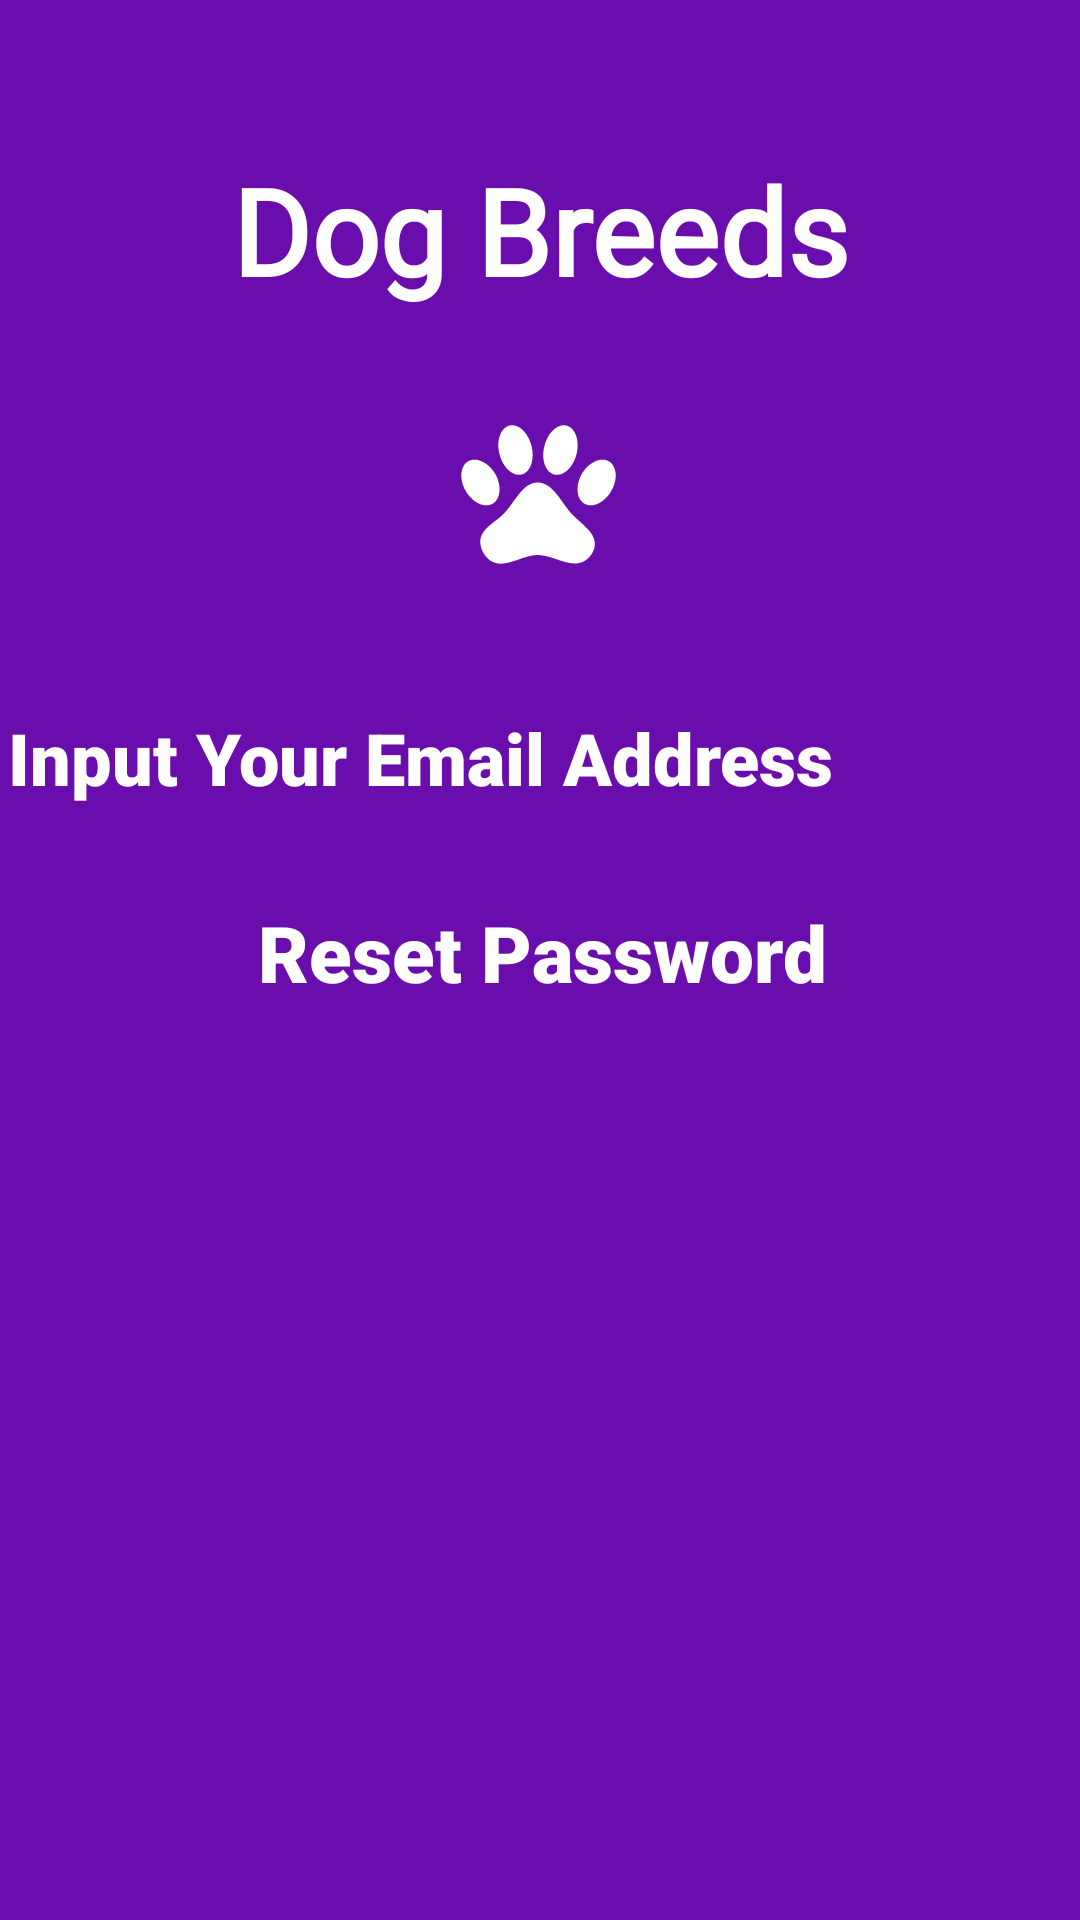

Icons on this 1080px x 1920px Android screen, each with its box as (x1, y1, x2, y2):
paw: (461, 425, 616, 564)
